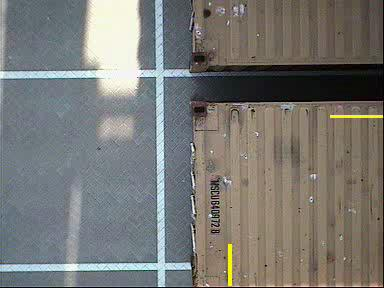groundmarker_2: (121, 68, 187, 115), (121, 224, 187, 271)
